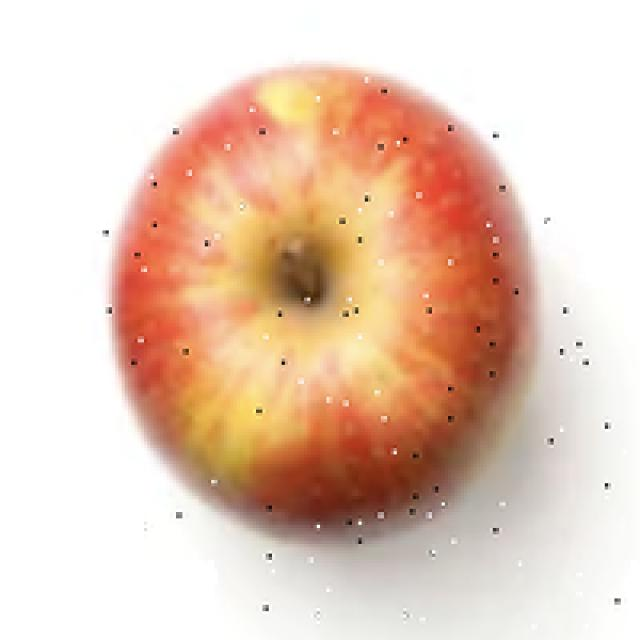apple: (93, 52, 618, 626)
